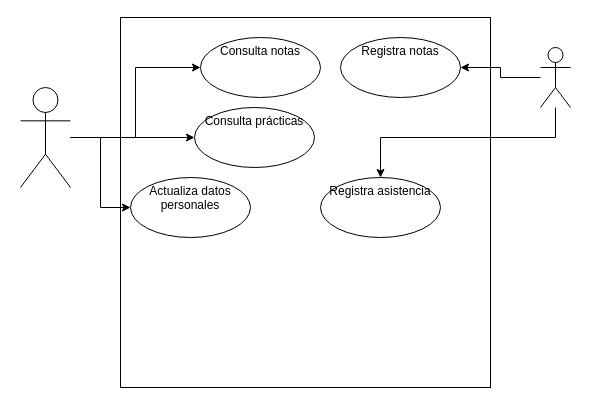
The diagram is 595 pixels wide and 405 high, and some of its shapes have lost their labels. The shapes that lost their labels are listed below. From the top down, each one's centre as x and y in pixels, then its label:
At [555,77]: "Docente".
At [45,137]: "Estudiante".
